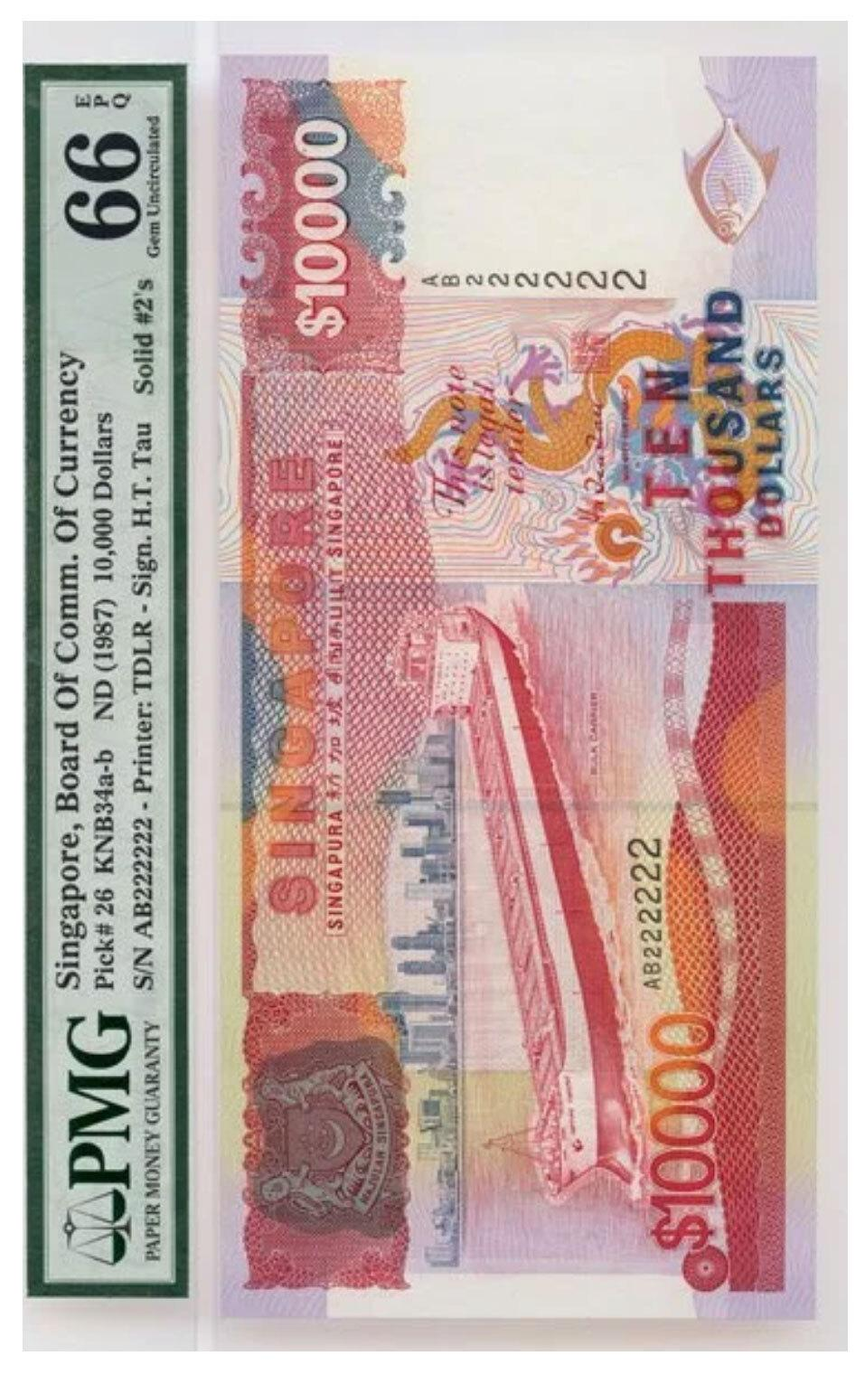10000SingaporeDollar: (235, 50, 832, 1320)
